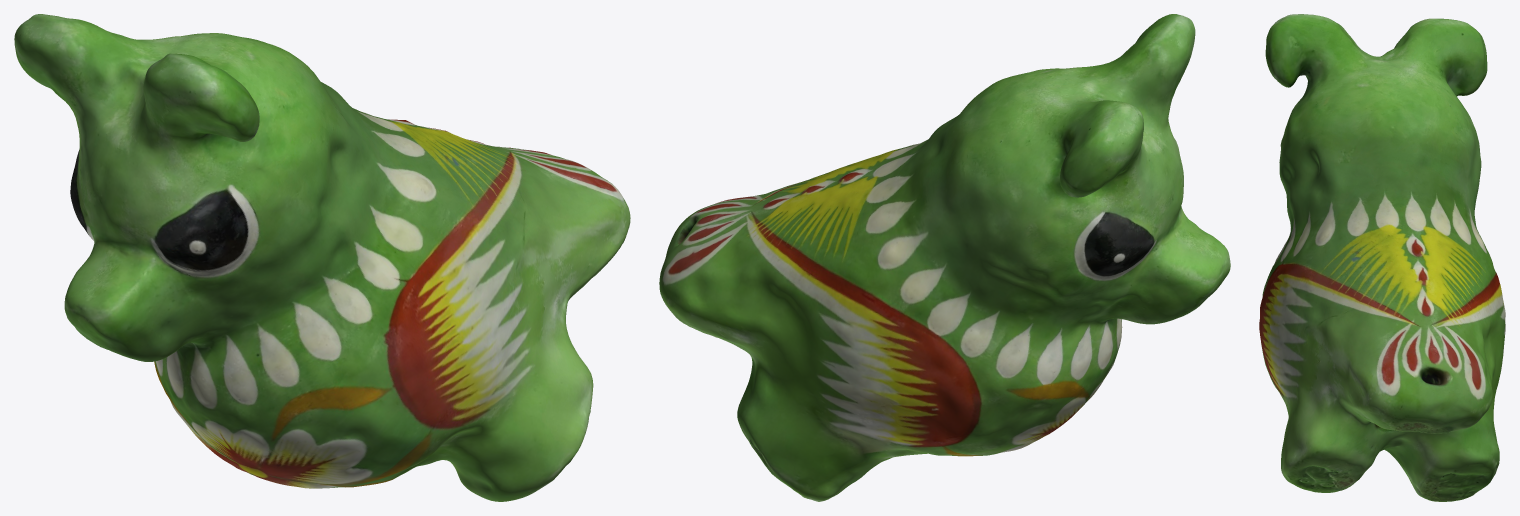
3 views of the same model, side by side, from view 1: azimuth 30°, elevation 25°; view 2: azimuth 150°, elevation 25°; view 3: azimuth 270°, elevation 25° (orthographic). The views are drawn at different scales.
Bounding box in the file's own units: 0.8077 × 0.7204 × 0.4194.
1 material, 1 textured.
